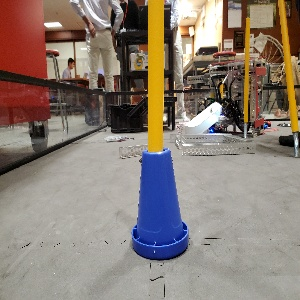Blue_1: (130, 147, 188, 261)
